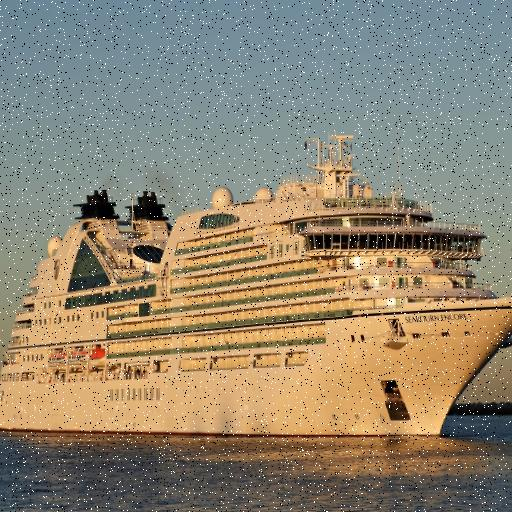cruises: (1, 127, 512, 449)
